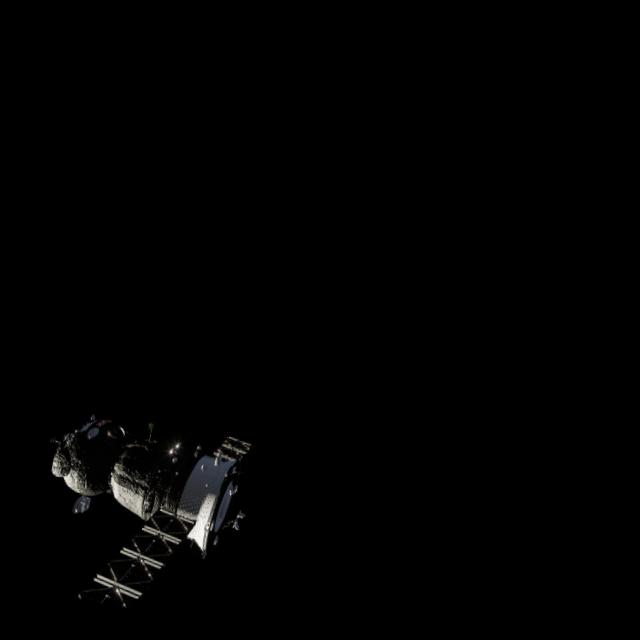Satellites revolving around earth: (22, 394, 264, 625)
